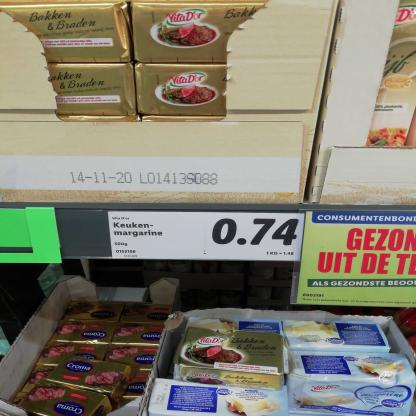prtg: (108, 212, 306, 262)
